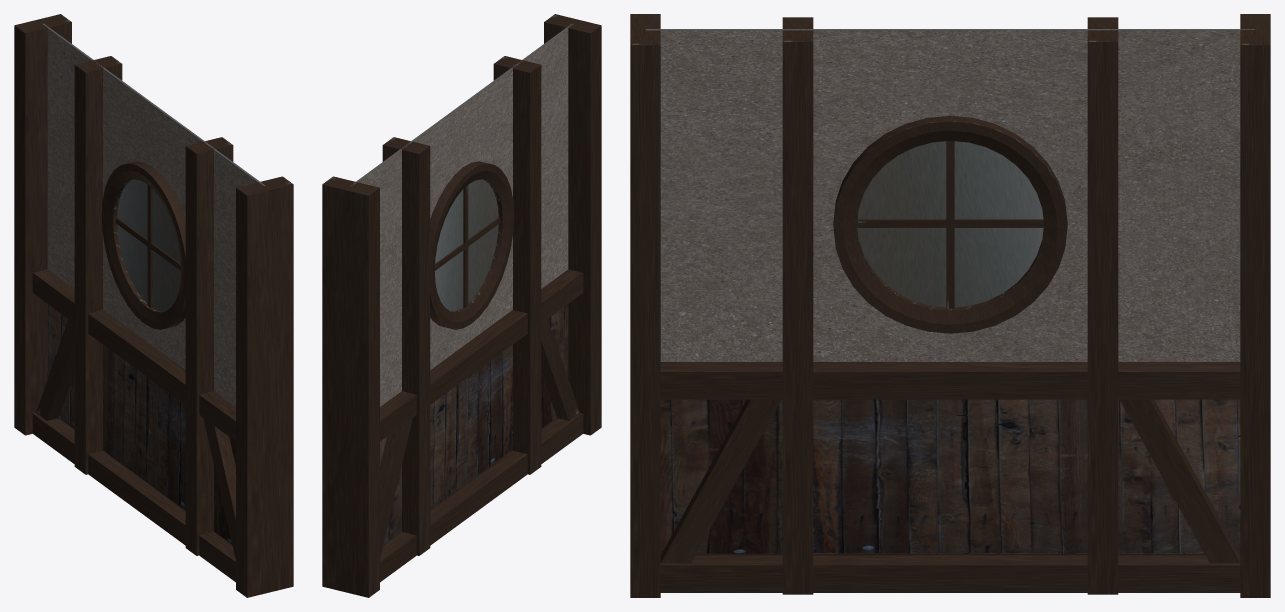
The model's file is OutdoorArchitecture_BasicWall01_Window02_BothEdges_BShortt.fbx.
The picture shows the model from 3 angles, left to right: view 1: azimuth 30°, elevation 25°; view 2: azimuth 150°, elevation 25°; view 3: azimuth 270°, elevation 25°; orthographic projection. The views are drawn at different scales.
Visible parts, largest first — view 1: OutdoorArchitecture_BasicWall01_Window02_BothEdges_BShortt; view 2: OutdoorArchitecture_BasicWall01_Window02_BothEdges_BShortt; view 3: OutdoorArchitecture_BasicWall01_Window02_BothEdges_BShortt.
Boxes of the visible parts, x1,y1,x2,y2 form: OutdoorArchitecture_BasicWall01_Window02_BothEdges_BShortt: [14, 14, 293, 597]; OutdoorArchitecture_BasicWall01_Window02_BothEdges_BShortt: [322, 14, 601, 597]; OutdoorArchitecture_BasicWall01_Window02_BothEdges_BShortt: [630, 14, 1270, 597].
Bounding box in the file's own units: 36.37 × 300 × 315.
